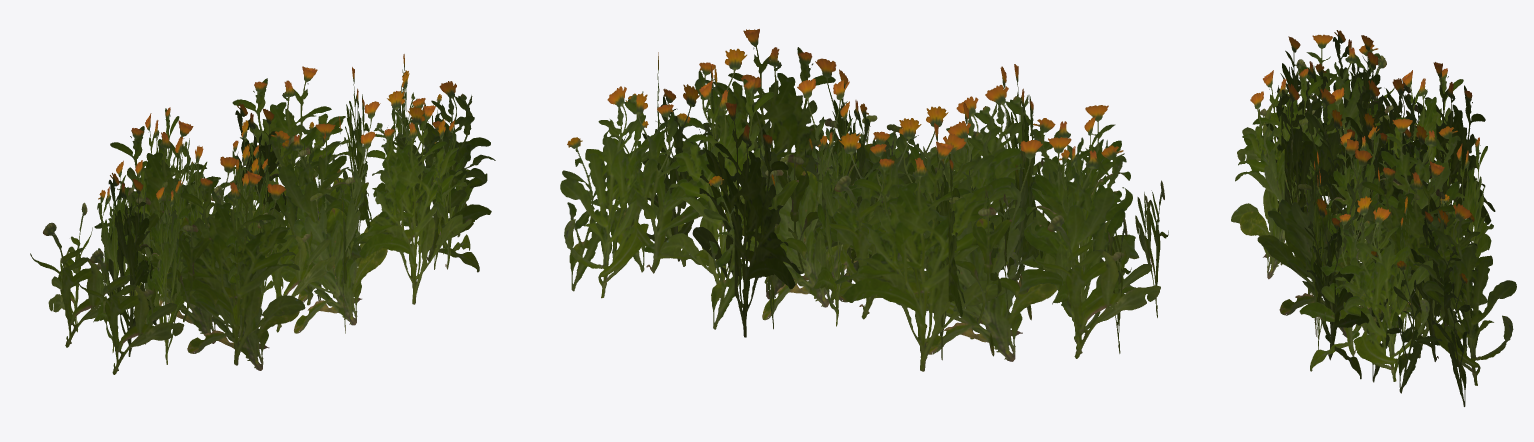
The model's file is flowers_marigold.fbx.
3 views of the same model, side by side, from view 1: azimuth 30°, elevation 25°; view 2: azimuth 150°, elevation 25°; view 3: azimuth 270°, elevation 25° (orthographic). The views are drawn at different scales.
Parts seen in each view (by area): view 1: Plane_001; view 2: Plane_001; view 3: Plane_001.
Part boxes in pixels (box(x1,y1,x2,y2)): Plane_001: box(30, 54, 495, 374); Plane_001: box(560, 29, 1168, 371); Plane_001: box(1231, 30, 1516, 406).
Bounding box in the file's own units: 250 × 121 × 137.
